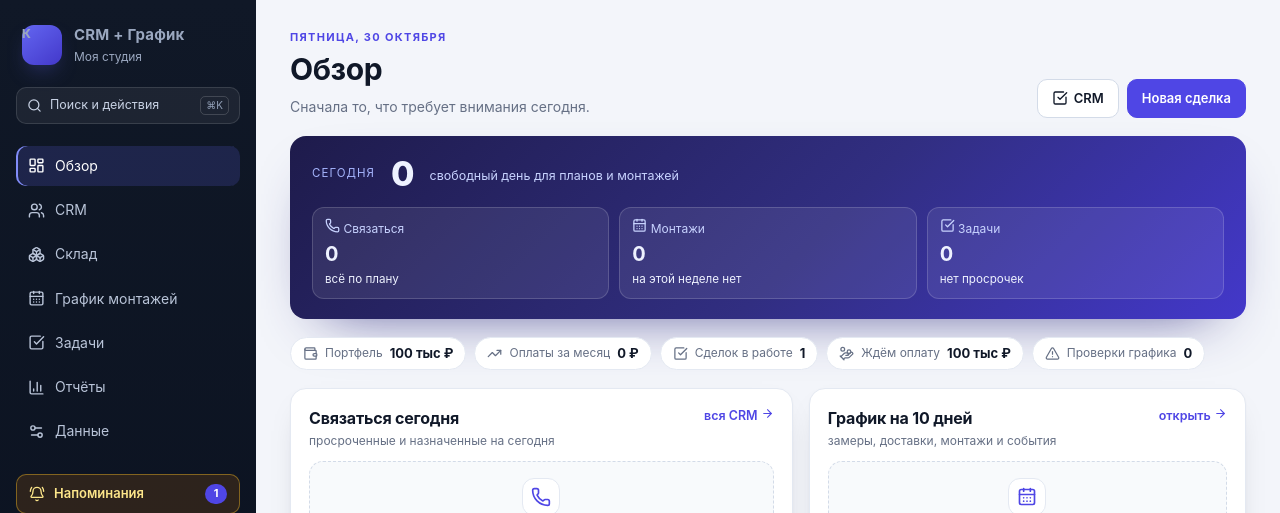
Test: прошлые версии общей базы › честно говорит, если версий ещё нет
Click the button "Данные": (128, 432) [16,411,240,452]
(page scrolled)
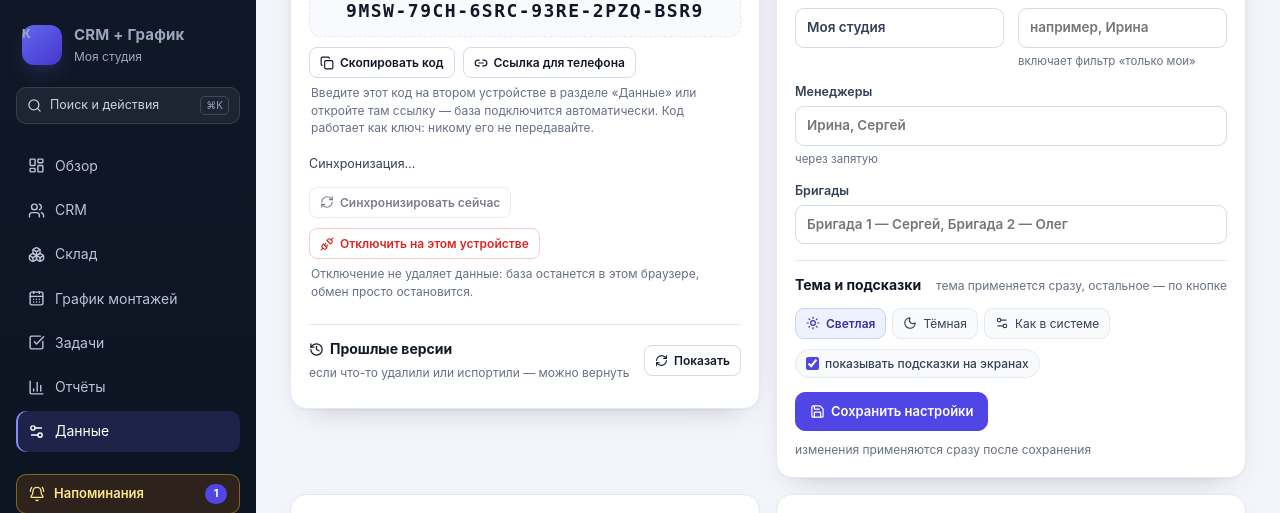
Click the button "Показать": (692, 360) [644,345,741,376]
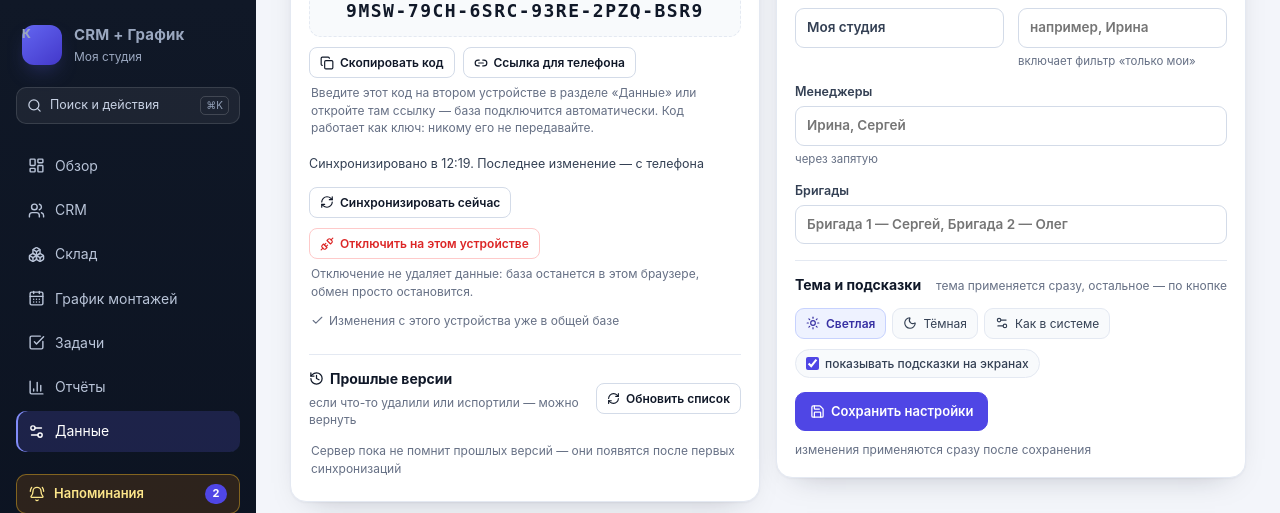
Expected: the text "пока не помнит прошлых версий" is shown, [311,443,735,476]
